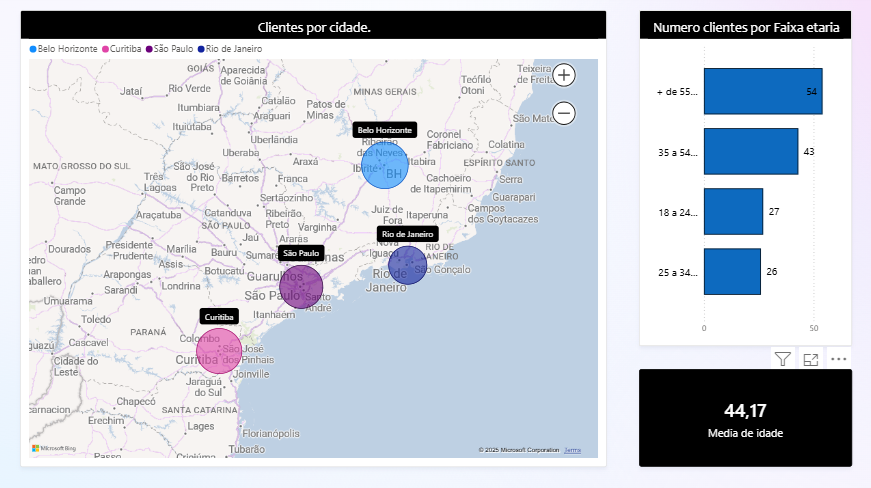

Layout of this report page (visuals, bound fields, positions):
{"tool":"powerbi","page":{"name":"Cliente","canvas":[1280,720],"ordinal":1},"visuals":[{"type":"map","title":"Clientes por cidade.","fields":{"Category":["BaseVendas.Cidade"],"Series":["BaseVendas.Cidade"],"Size":["select","BaseVendas.Numero clientes"]},"box":[29.3,16.1,859,668.8],"z":0},{"type":"clusteredBarChart","fields":{"Category":["BaseVendas.Faixa etaria "],"Y":["BaseVendas.Numero clientes"]},"box":[935.1,16.1,311.7,491.7],"z":1000},{"type":"card","fields":{"Values":["BaseVendas.Idade média"]},"box":[935.1,541.5,311.7,143.4],"z":2000}]}

Visuals, with their boxes in screenshot pixels (x1, y1, x2, y2), scaled from the page's 1280x720 canvas onto the 871x488 screenshot:
"Clientes por cidade." map: (left=20, top=11, right=604, bottom=464)
clusteredBarChart - BaseVendas.Faixa etaria  x BaseVendas.Numero clientes: (left=636, top=11, right=848, bottom=344)
card - BaseVendas.Idade média: (left=636, top=367, right=848, bottom=464)
